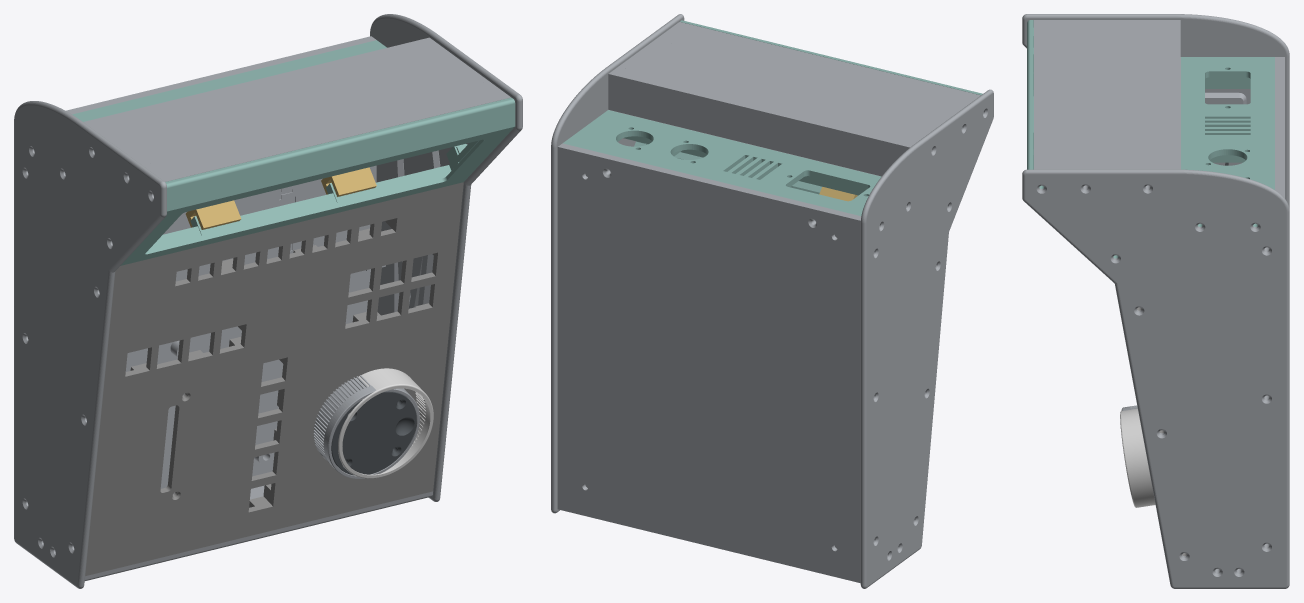
File: manufactured-surfaces.glb
3 views of the same model, side by side, from view 1: azimuth 30°, elevation 25°; view 2: azimuth 150°, elevation 25°; view 3: azimuth 270°, elevation 25° (orthographic). The views are drawn at different scales.
Visible parts, largest first — view 1: 08_Deck, 02_Fianco_SX, 29_Retro_a_L, 09_Console_schermo, 01_Base, 02_Fianco_DX, 13B_Tappo_jog, 06_Retro_IO, 13C, 13_Ruota_jog, 04_Frontale, 27L_Fermo_INF_1 (+1 smaller); view 2: 01_Base, 02_Fianco_SX, 29_Retro_a_L, 06_Retro_IO, 02_Fianco_DX, 04_Frontale, 09_Console_schermo; view 3: 02_Fianco_DX, 29_Retro_a_L, 06_Retro_IO, 02_Fianco_SX, 13C, 01_Base, 09_Console_schermo.
Boxes of the visible parts, x1,y1,x2,y2 form: 08_Deck: [85, 182, 463, 575]; 02_Fianco_SX: [14, 101, 166, 588]; 29_Retro_a_L: [83, 37, 510, 181]; 09_Console_schermo: [120, 97, 515, 265]; 01_Base: [66, 36, 385, 494]; 02_Fianco_DX: [370, 14, 522, 501]; 13B_Tappo_jog: [331, 391, 416, 475]; 06_Retro_IO: [72, 40, 386, 121]; 13C: [338, 368, 433, 478]; 13_Ruota_jog: [313, 375, 419, 478]; 04_Frontale: [84, 485, 432, 580]; 27L_Fermo_INF_1: [185, 200, 241, 229]; 01_Base: [557, 143, 861, 577]; 02_Fianco_SX: [860, 89, 993, 588]; 29_Retro_a_L: [608, 22, 980, 176]; 06_Retro_IO: [563, 110, 880, 215]; 02_Fianco_DX: [551, 14, 684, 513]; 04_Frontale: [557, 503, 860, 583]; 09_Console_schermo: [634, 20, 982, 195]; 02_Fianco_DX: [1022, 169, 1289, 588]; 29_Retro_a_L: [1034, 20, 1180, 188]; 06_Retro_IO: [1181, 57, 1274, 226]; 02_Fianco_SX: [1022, 14, 1289, 207]; 13C: [1120, 408, 1155, 507]; 01_Base: [1264, 57, 1284, 546]; 09_Console_schermo: [1027, 20, 1118, 258].
Size of the model in its own units: 230 by 284 by 164.
